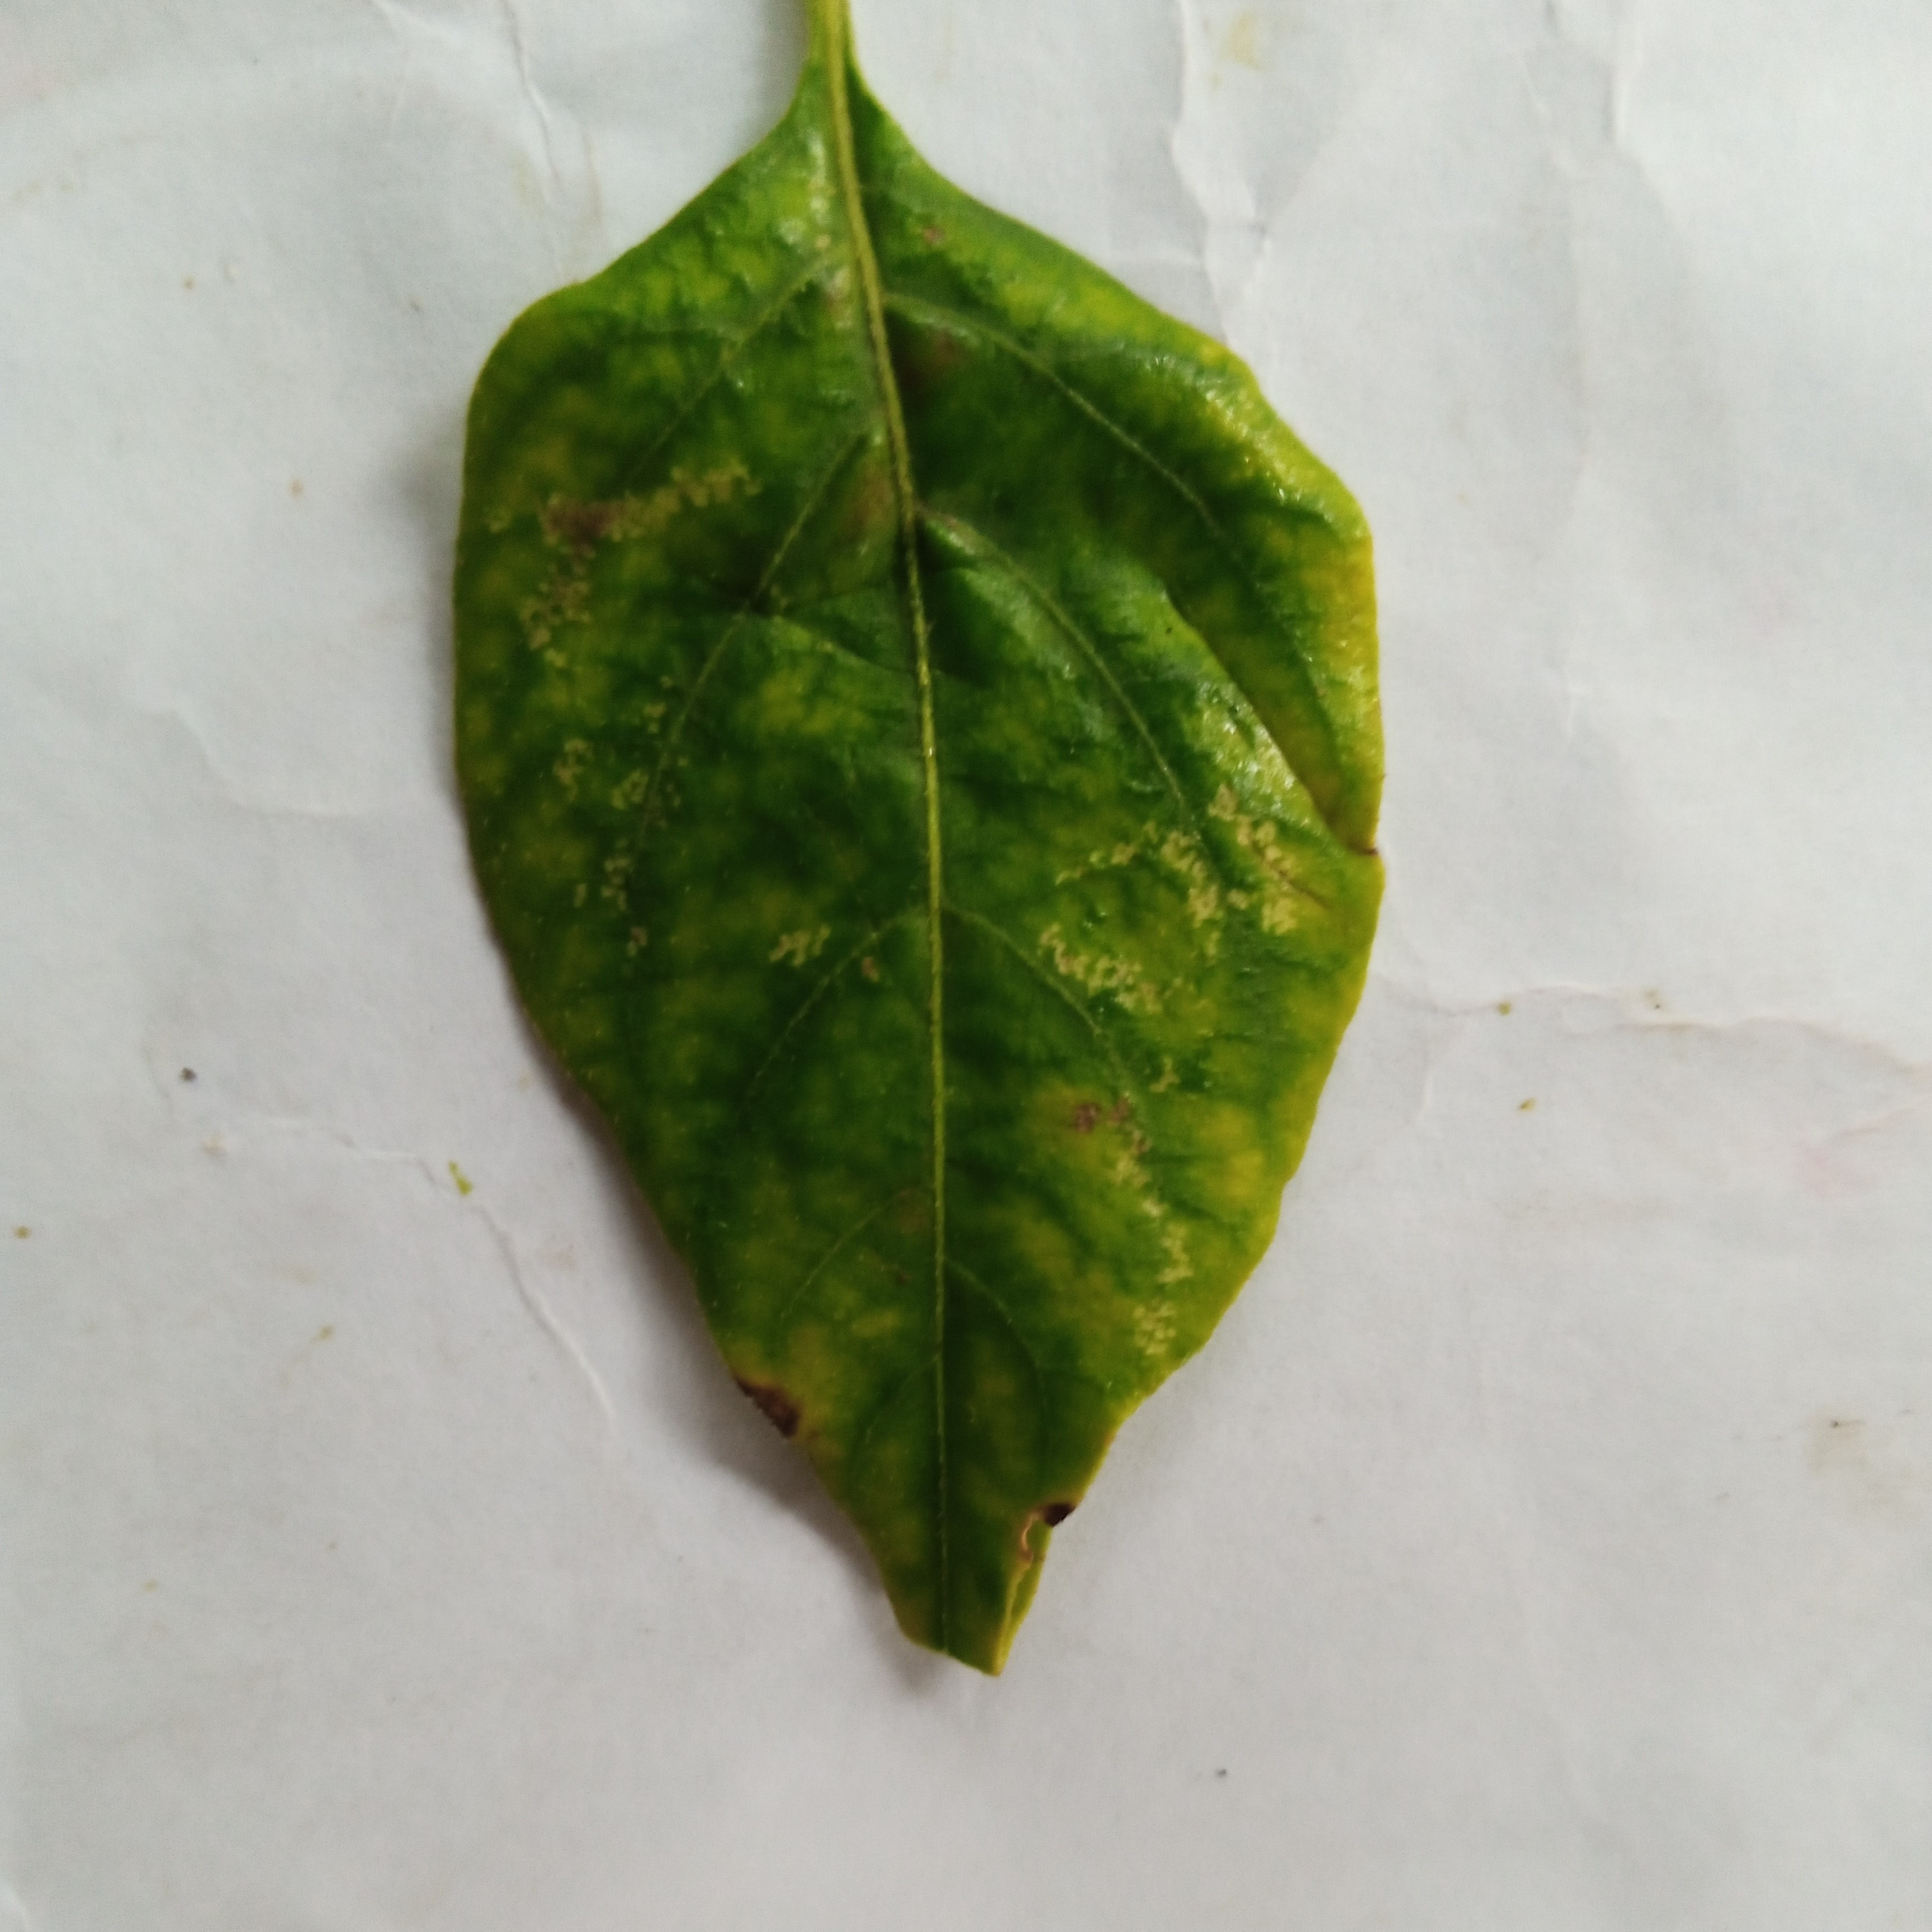Leaf: (331, 88, 1440, 1863)
